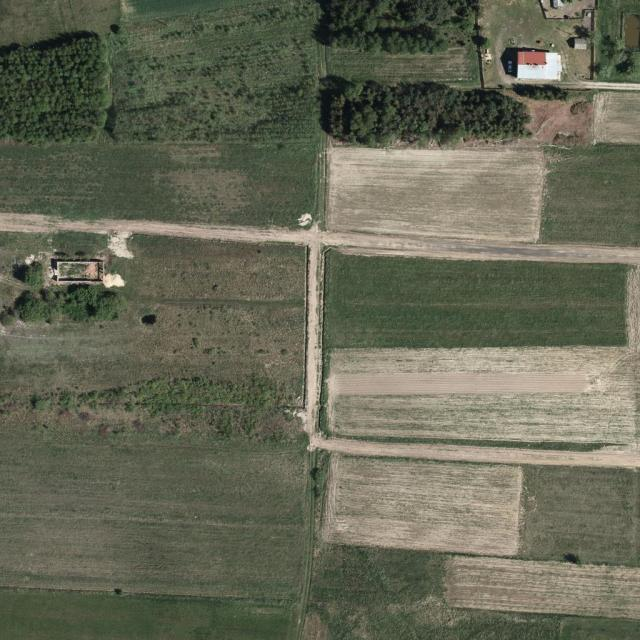agricultural_land: (0, 223, 308, 640), (0, 0, 319, 233)
building: (500, 39, 572, 86), (61, 252, 106, 281)
greenland: (0, 31, 106, 141)
